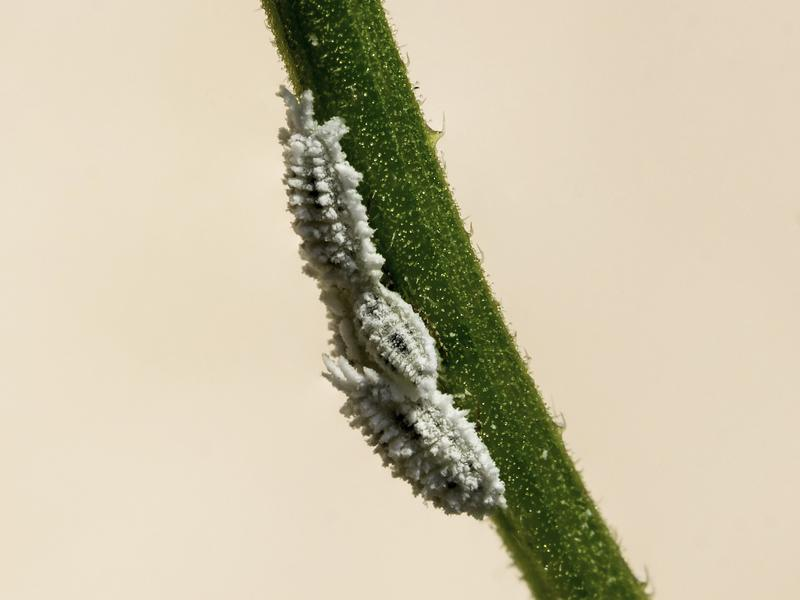Mealy_bug: (276, 97, 528, 520)
